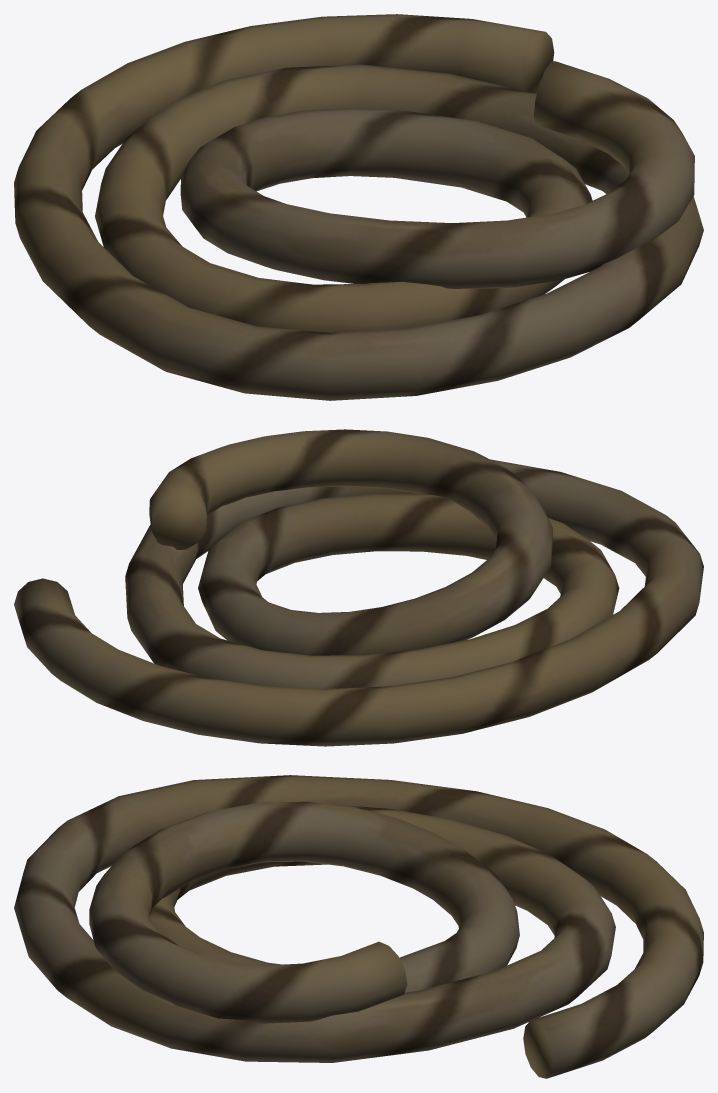
File: Rope_1.gltf
3 renders of one model, top to bottom at view 1: azimuth 30°, elevation 25°; view 2: azimuth 150°, elevation 25°; view 3: azimuth 270°, elevation 25°, orthographic. The views are drawn at different scales.
Visible parts, largest first — view 1: Rope_1; view 2: Rope_1; view 3: Rope_1.
Boxes of the visible parts, x1,y1,x2,y2 form: Rope_1: (14,14,703,400); Rope_1: (14,429,703,746); Rope_1: (14,775,703,1078).
Bounding box in the file's own units: 0.5574 × 0.0979 × 0.6063.
1 material, 1 textured.
